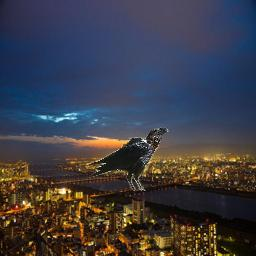Crow: (86, 127, 169, 191)
